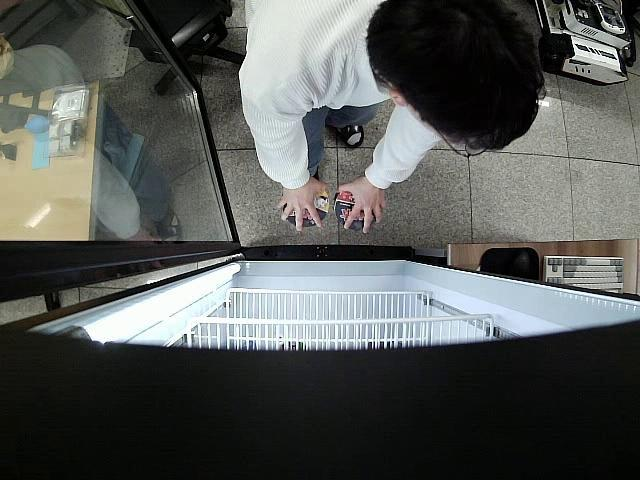07_buldak_L: (280, 186, 328, 228), (337, 190, 378, 232)
